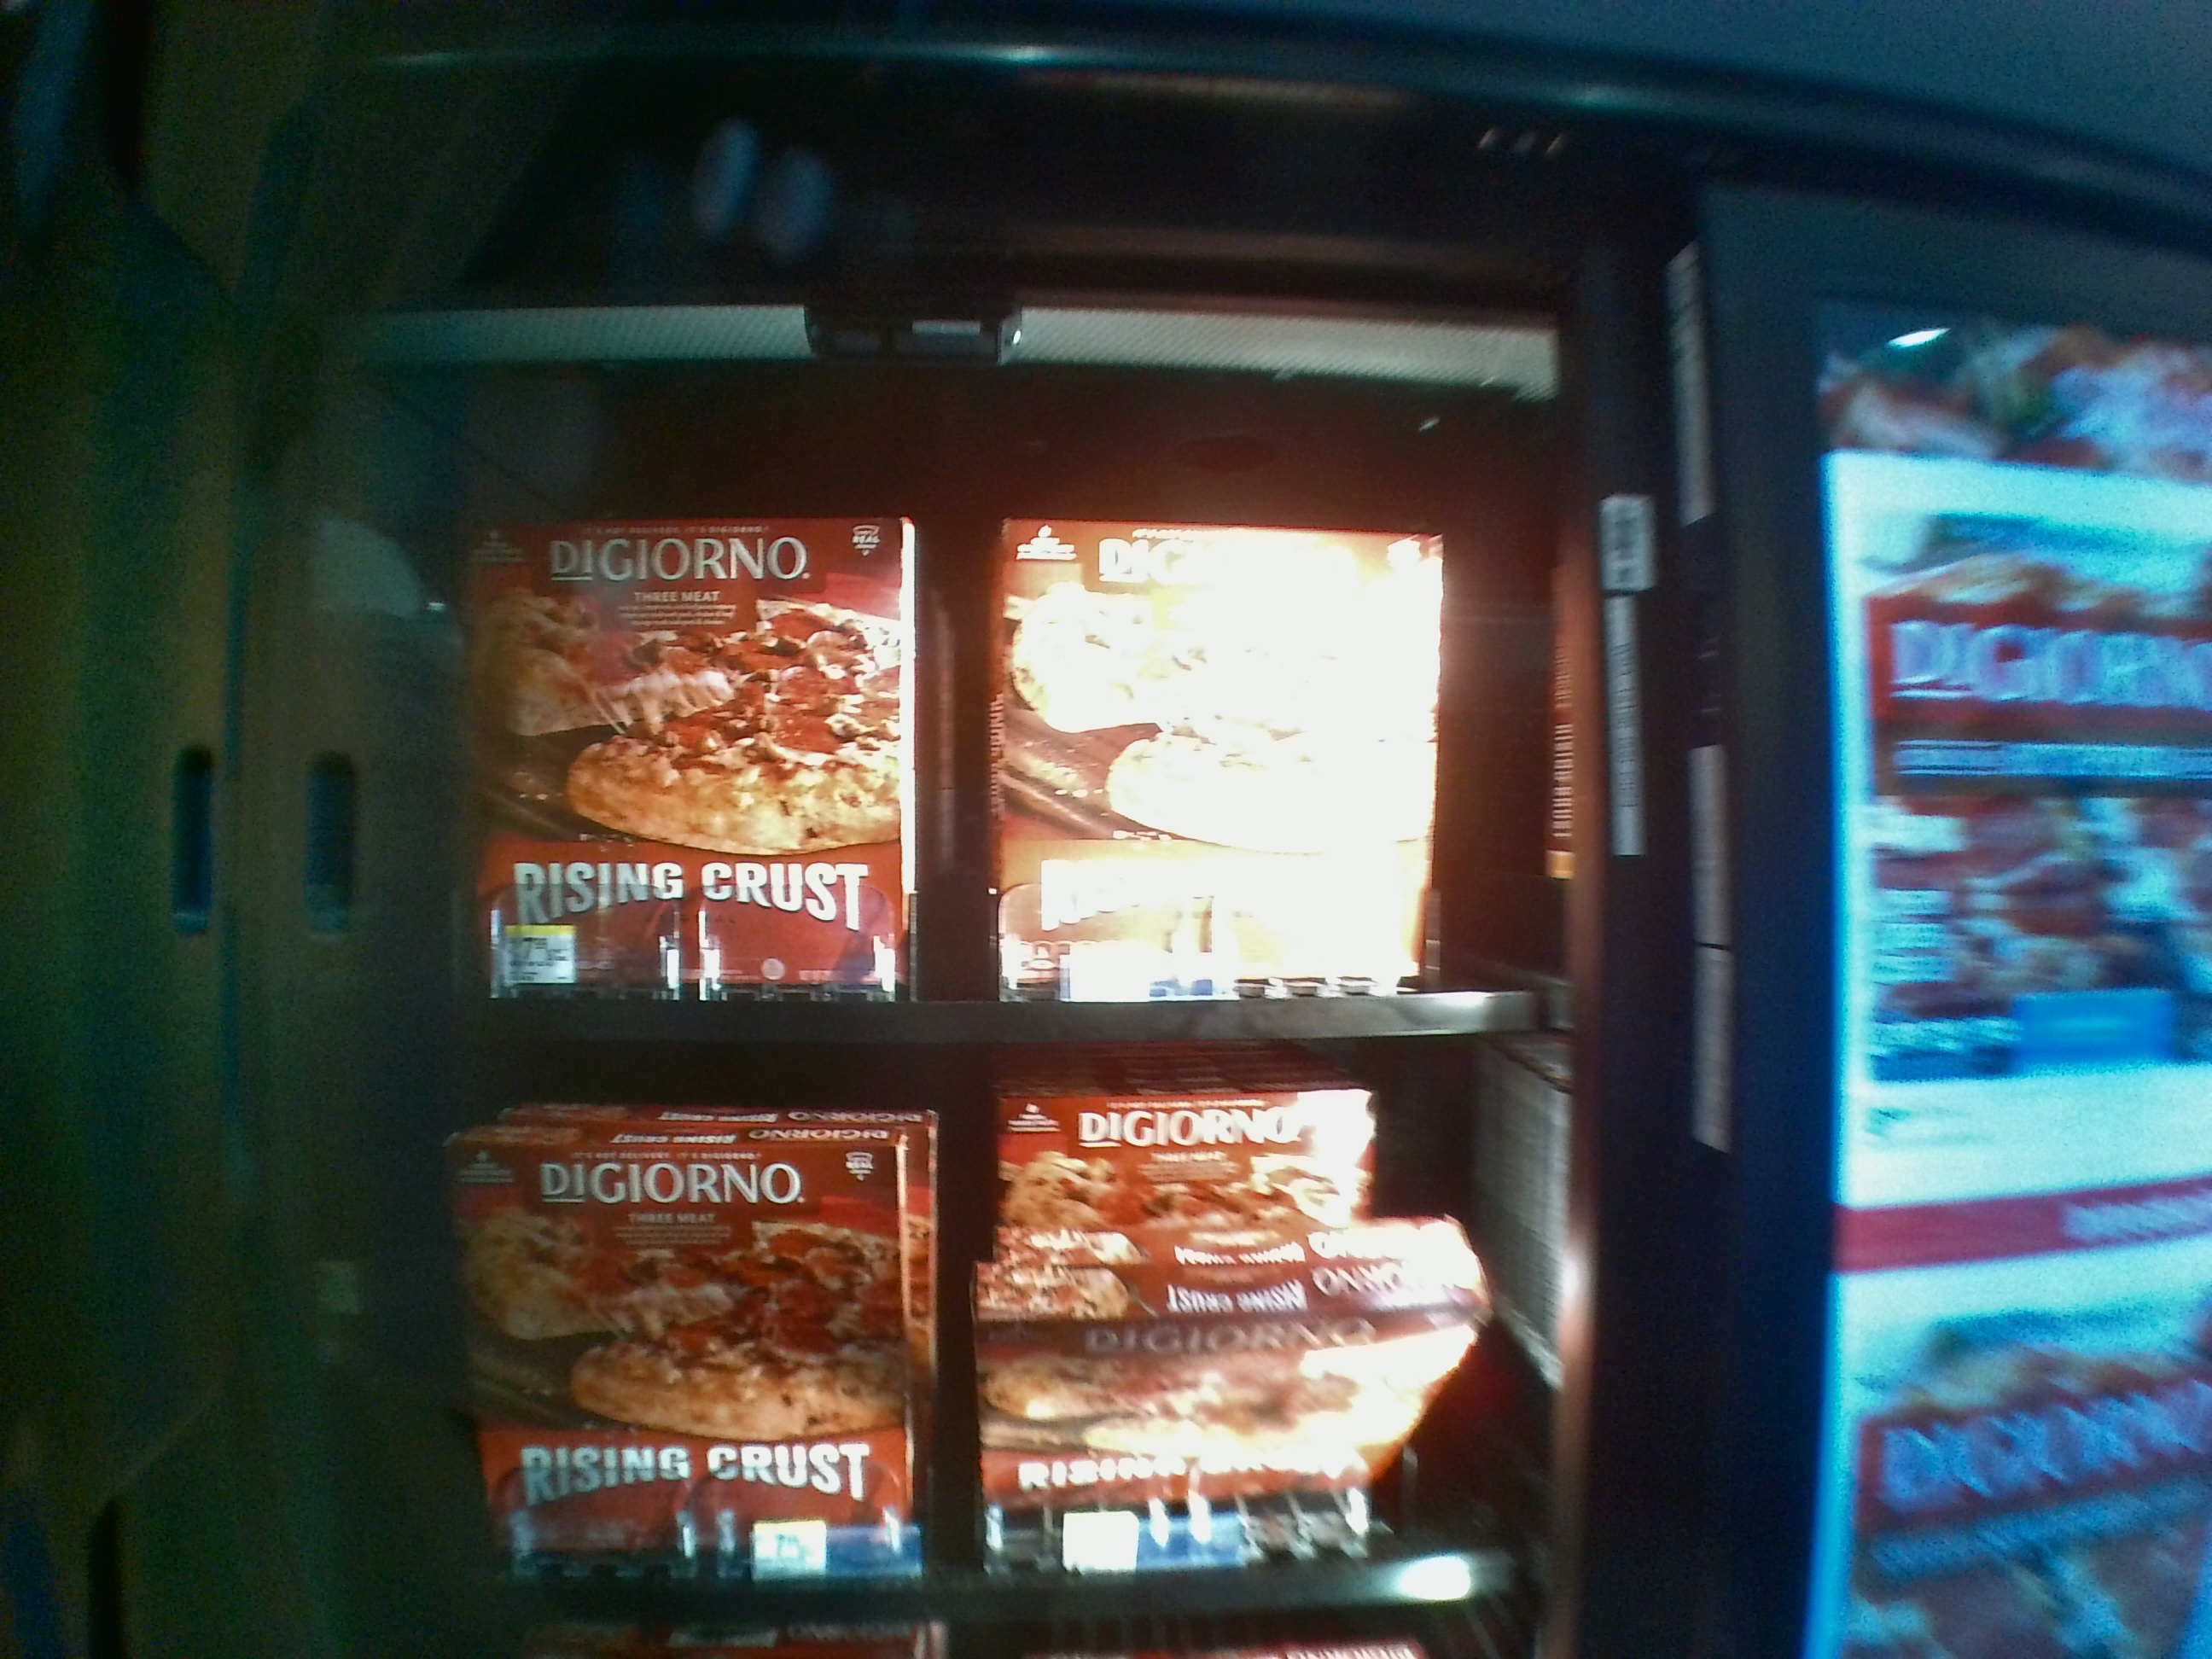shelf: (401, 413, 1547, 1054), (432, 1066, 1521, 1619)
